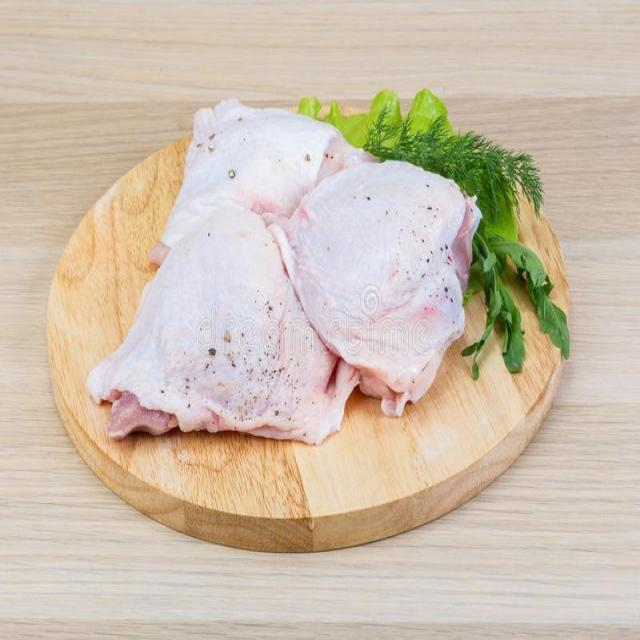chicken: (85, 95, 483, 447)
